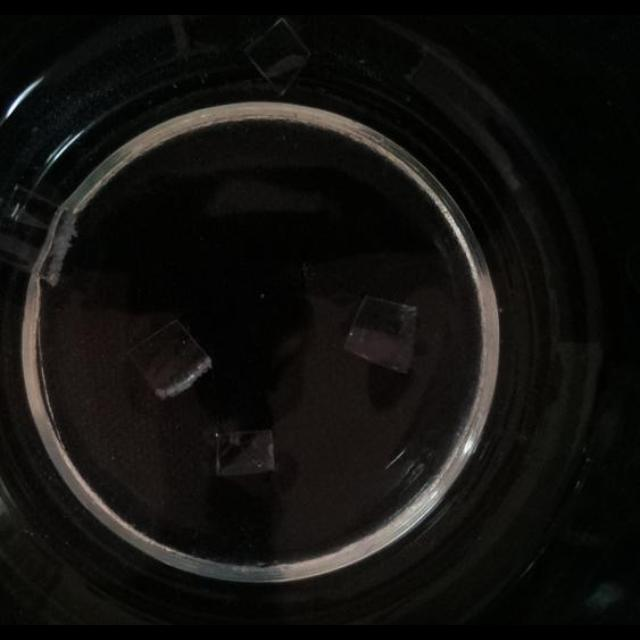Film: (0, 180, 80, 290), (125, 317, 213, 399), (344, 294, 421, 374), (240, 18, 310, 96), (212, 427, 276, 477)
